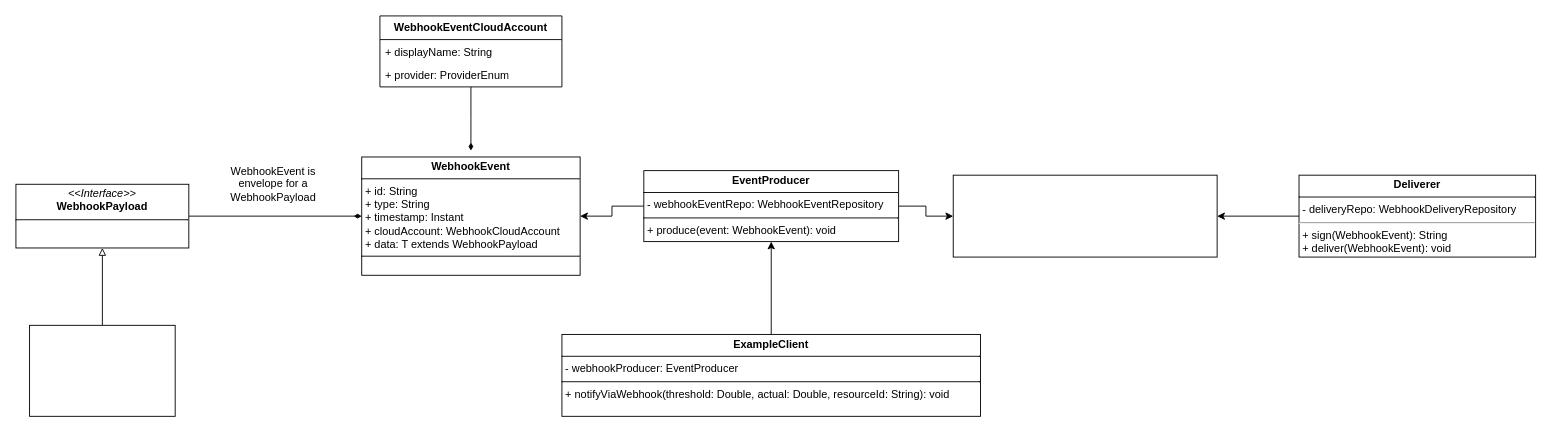
Some shapes in this 1552 by 432 pixel diagram are drawn without their labels. Each missing label, with the centre of its shape:
"DeliveryQ ueue + deliveryQueue: BlockingQueue<WebhookEvent> + offer(): boolean" belongs at point (1084, 215).
"ExamplePayload + threshold: Double + actual: Double + resourceId: String" belongs at point (102, 370).
